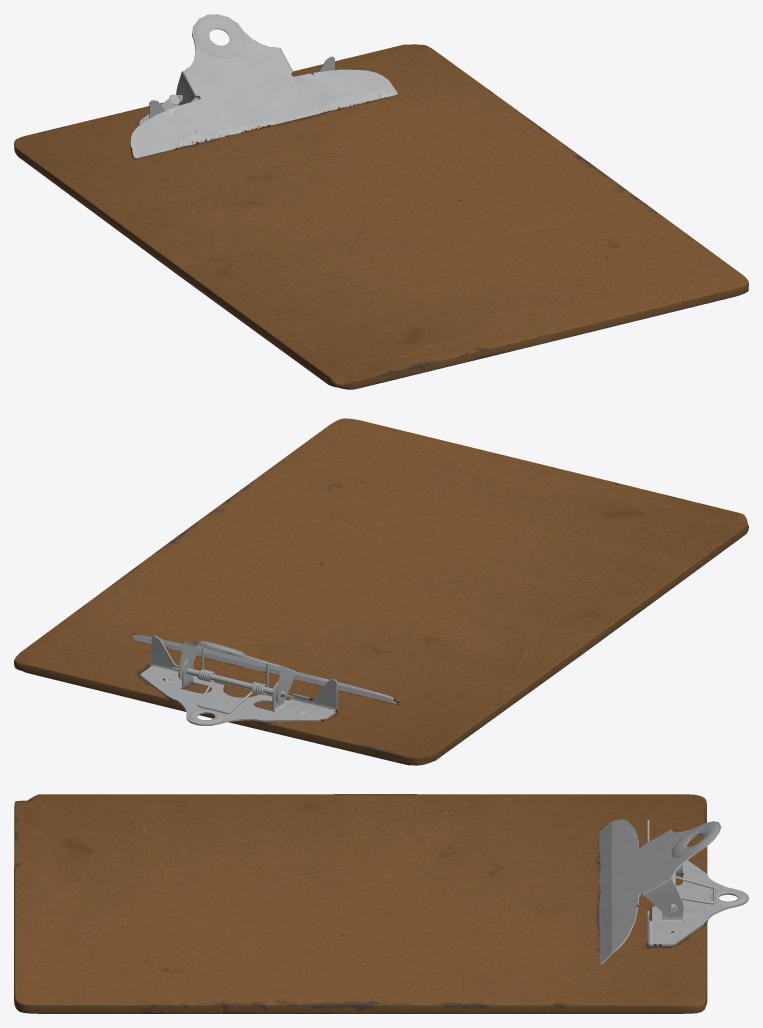
File: clipboard.glb
3 views of the same model, one above another, from view 1: azimuth 30°, elevation 25°; view 2: azimuth 150°, elevation 25°; view 3: azimuth 270°, elevation 25° (orthographic). The views are drawn at different scales.
Visible parts, largest first — view 1: clipboard; view 2: clipboard; view 3: clipboard.
Boxes of the visible parts, x1,y1,x2,y2 form: clipboard: [14, 14, 748, 389]; clipboard: [14, 418, 748, 765]; clipboard: [14, 794, 748, 1013].
Bounding box in the file's own units: 0.2286 × 0.042 × 0.3366.
1 material, 1 textured.
